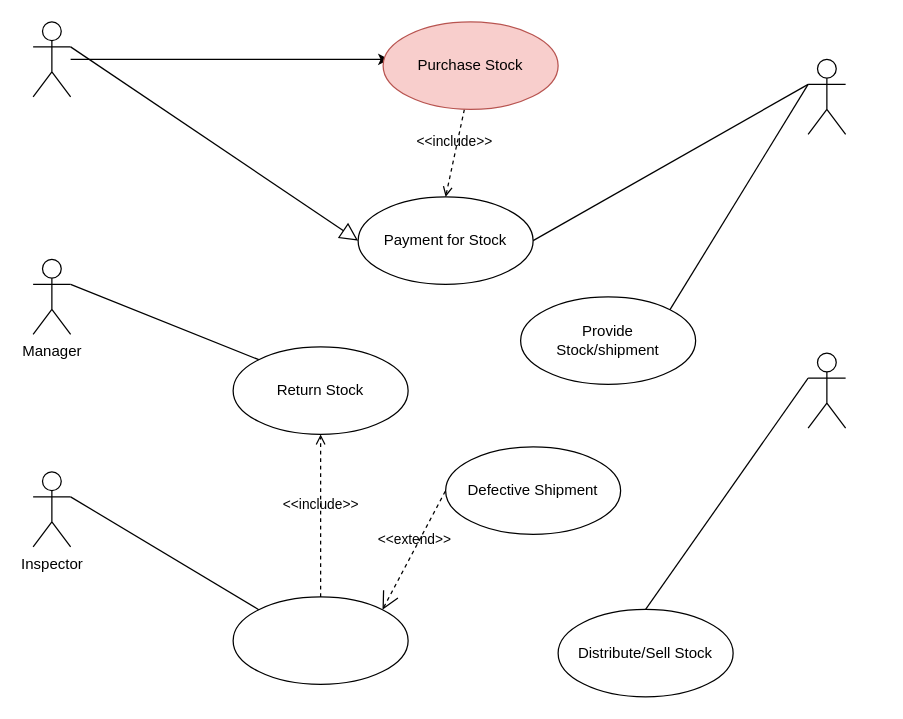
Image size: 903x719. Some labels were removed from this diagram. Here are the shapes that lost their labels. From the top down, the box of each, then its label:
(32, 21, 71, 97): Owner
(807, 58, 846, 134): Supplier
(807, 352, 846, 428): Inventory Check
(232, 596, 408, 684): Quality control of Stock
